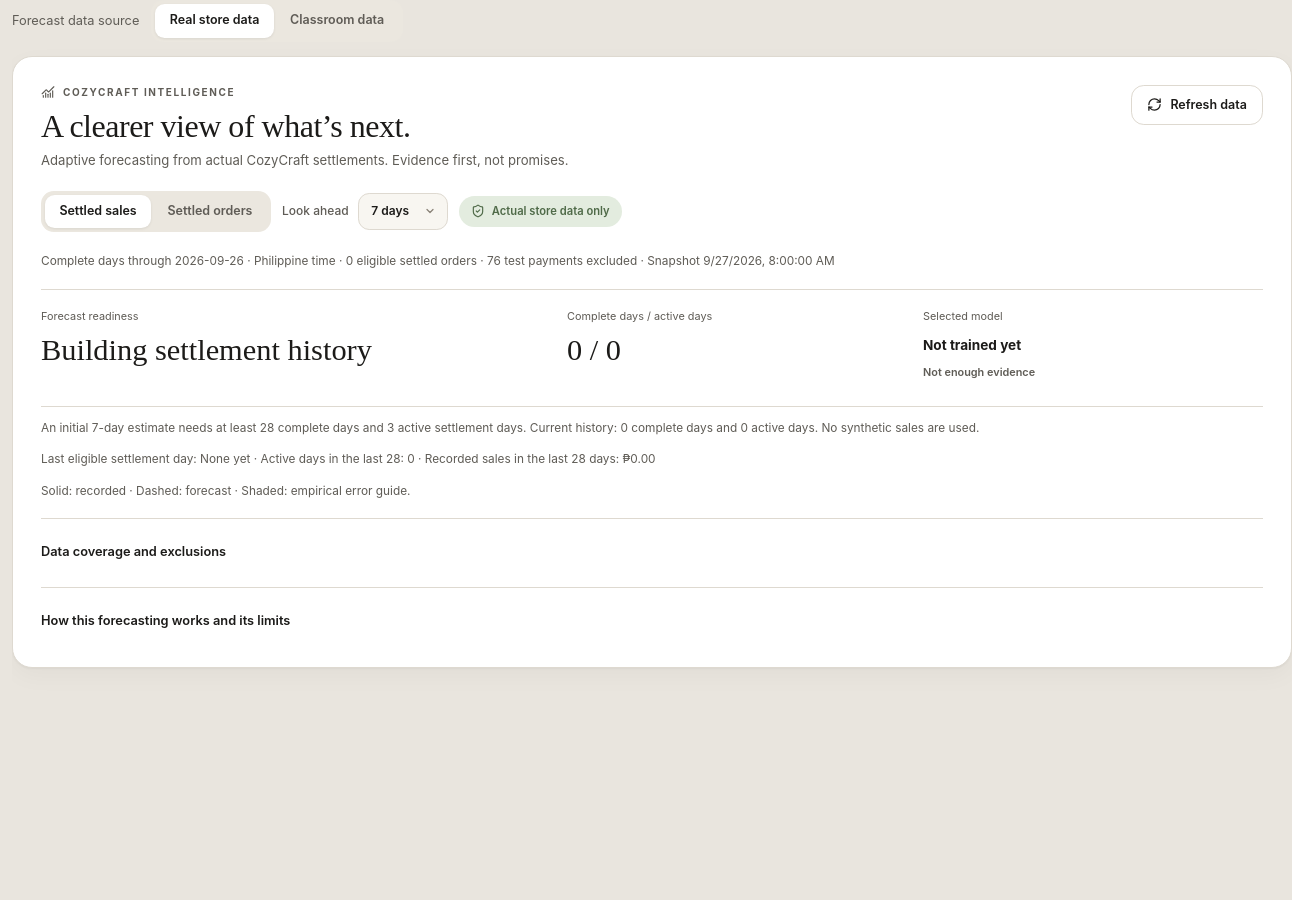
Test: forecast live loading lifecycle › fails visibly instead of falling back to the other source
Click the button "Classroom data" at (337, 21), box [276,4,399,38]
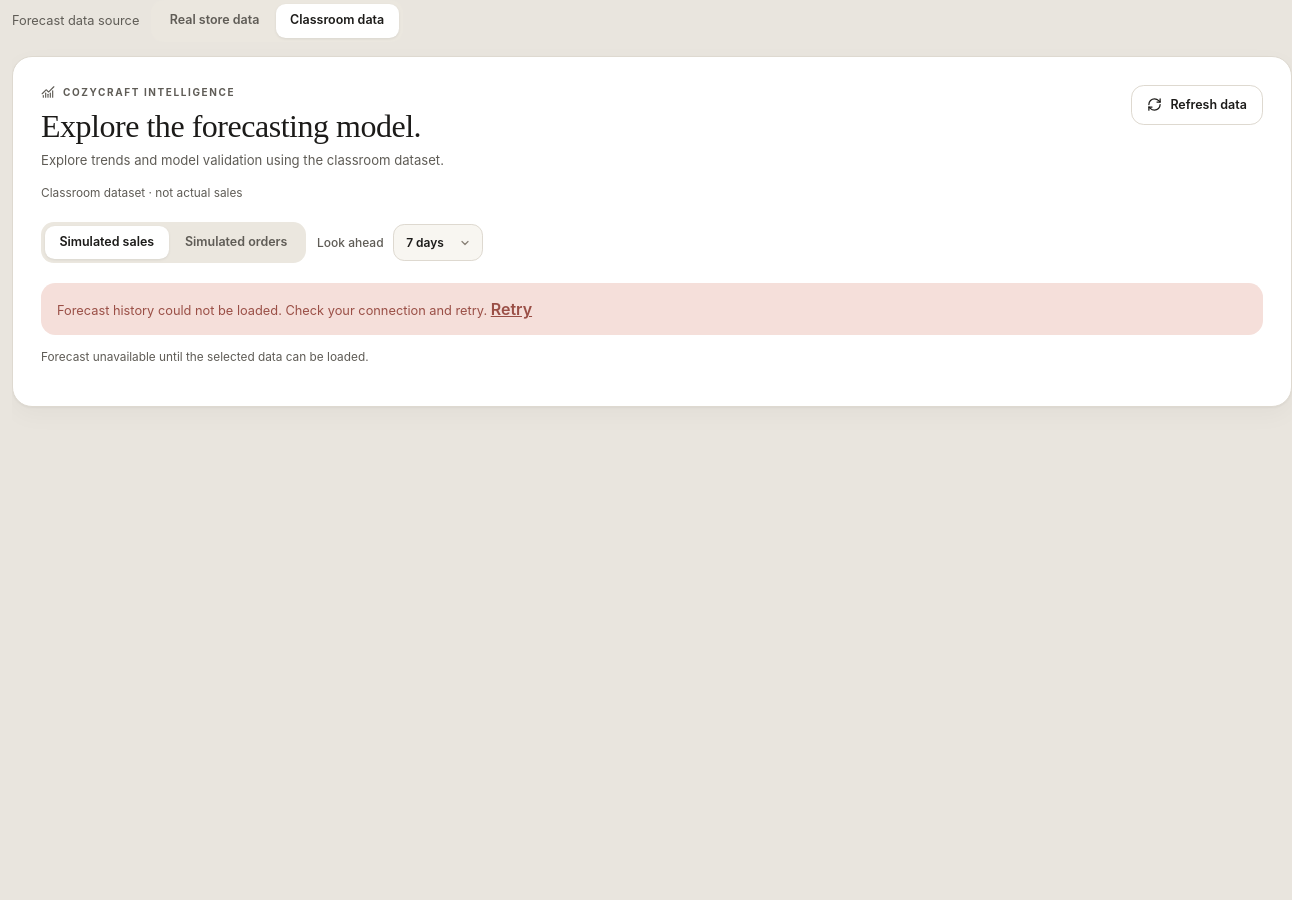
Expected: the message "Forecast history could not be loaded. Check your connection and retry. Retry" is shown, [41,283,1263,336]
Expected: the text "76 test payments excluded" is gone
